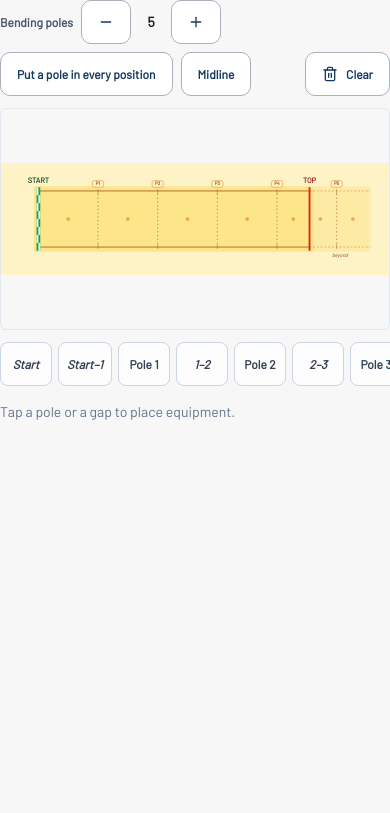
Scenario: DiagramEditor › selects the nearest slot when the lane background is tapped
Press the mouse on the picture named "Race diagram editor" at [195, 219], box [1,109,389,329]
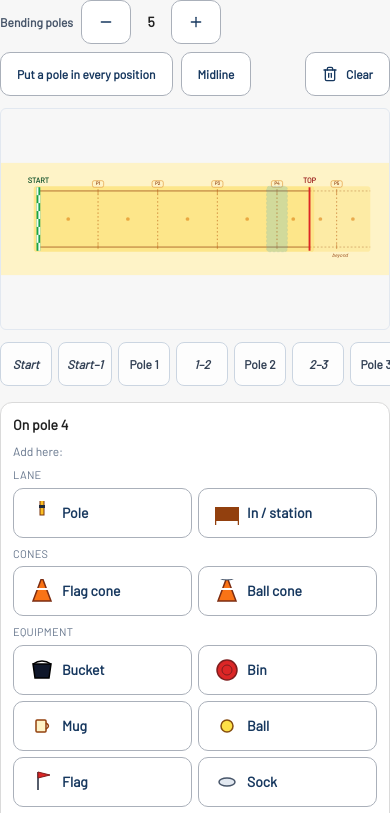
Expected: the element with test id "active-slot" is shown, [267,186,287,252]
Expected: the element with test id "slot-panel" shows "On pole 4", [13,416,68,433]
